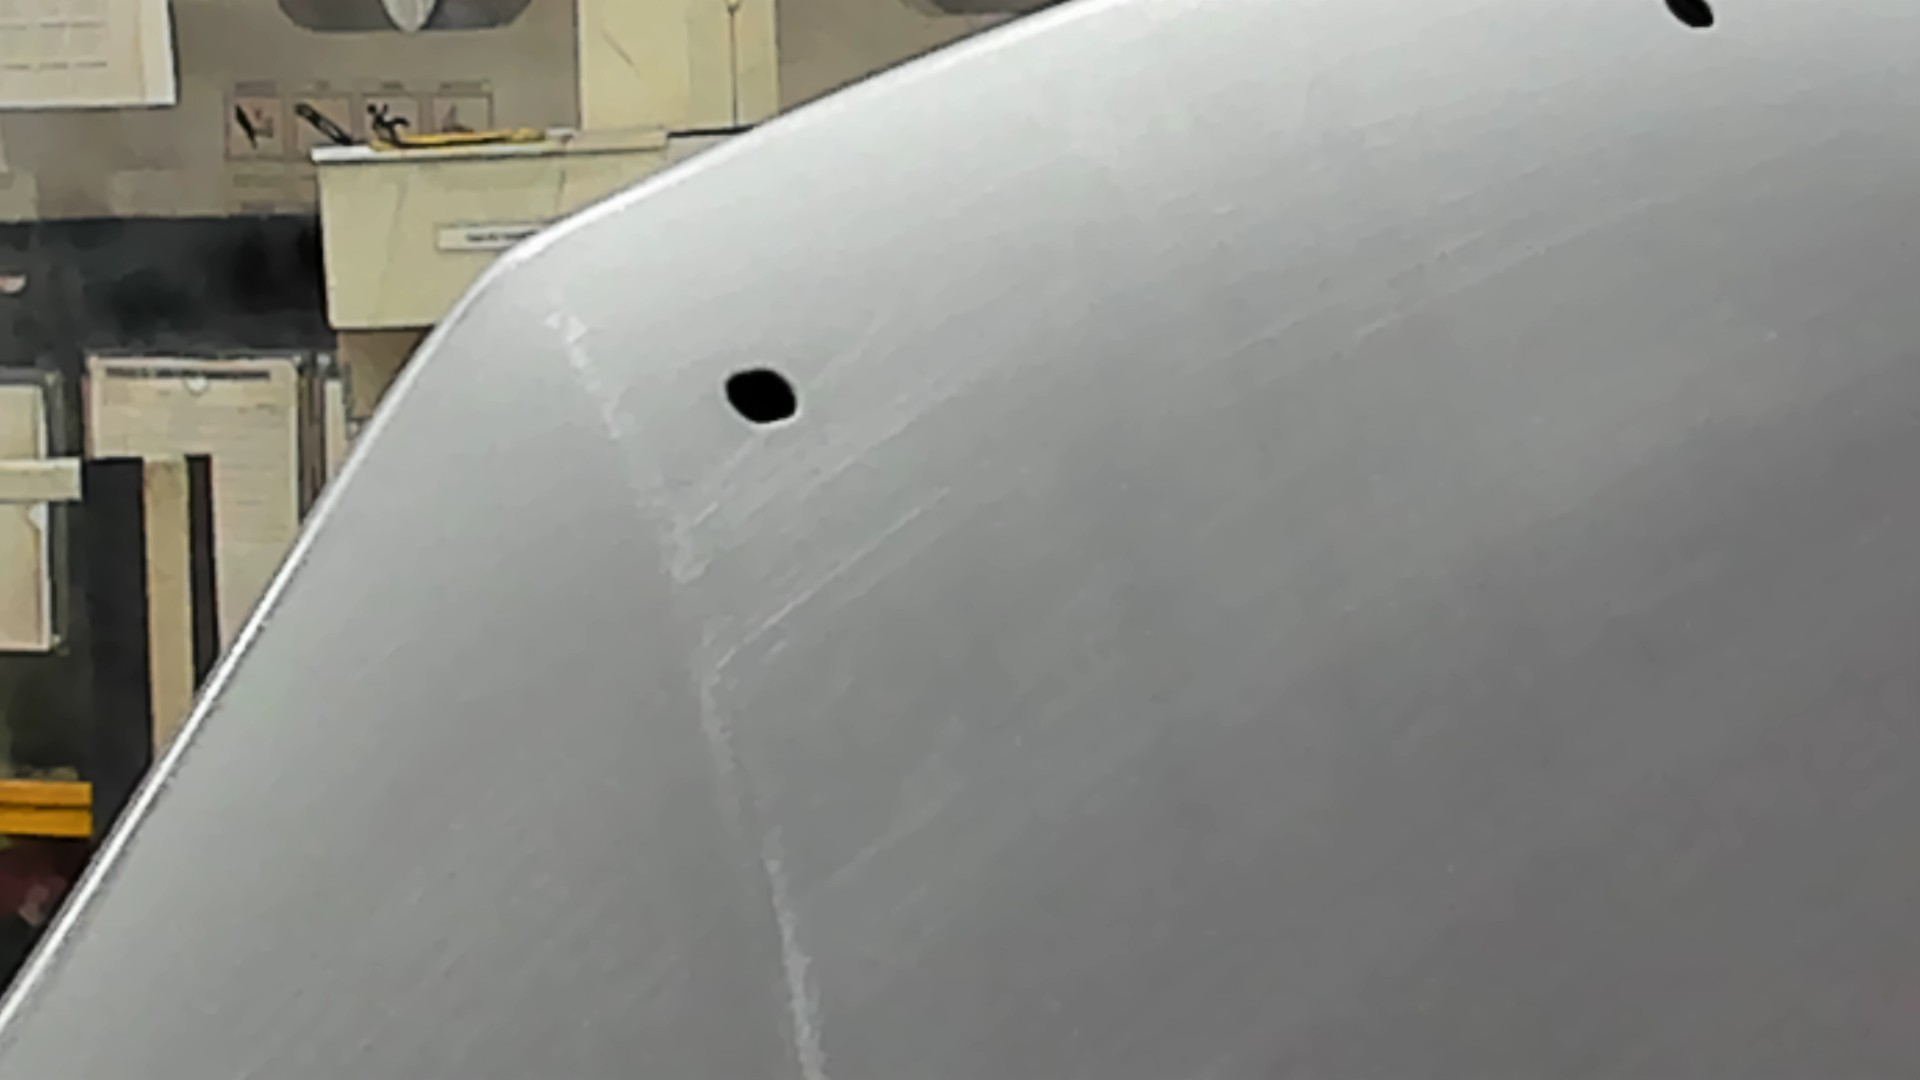Agujero: (723, 367, 802, 425), (1662, 1, 1716, 32)
